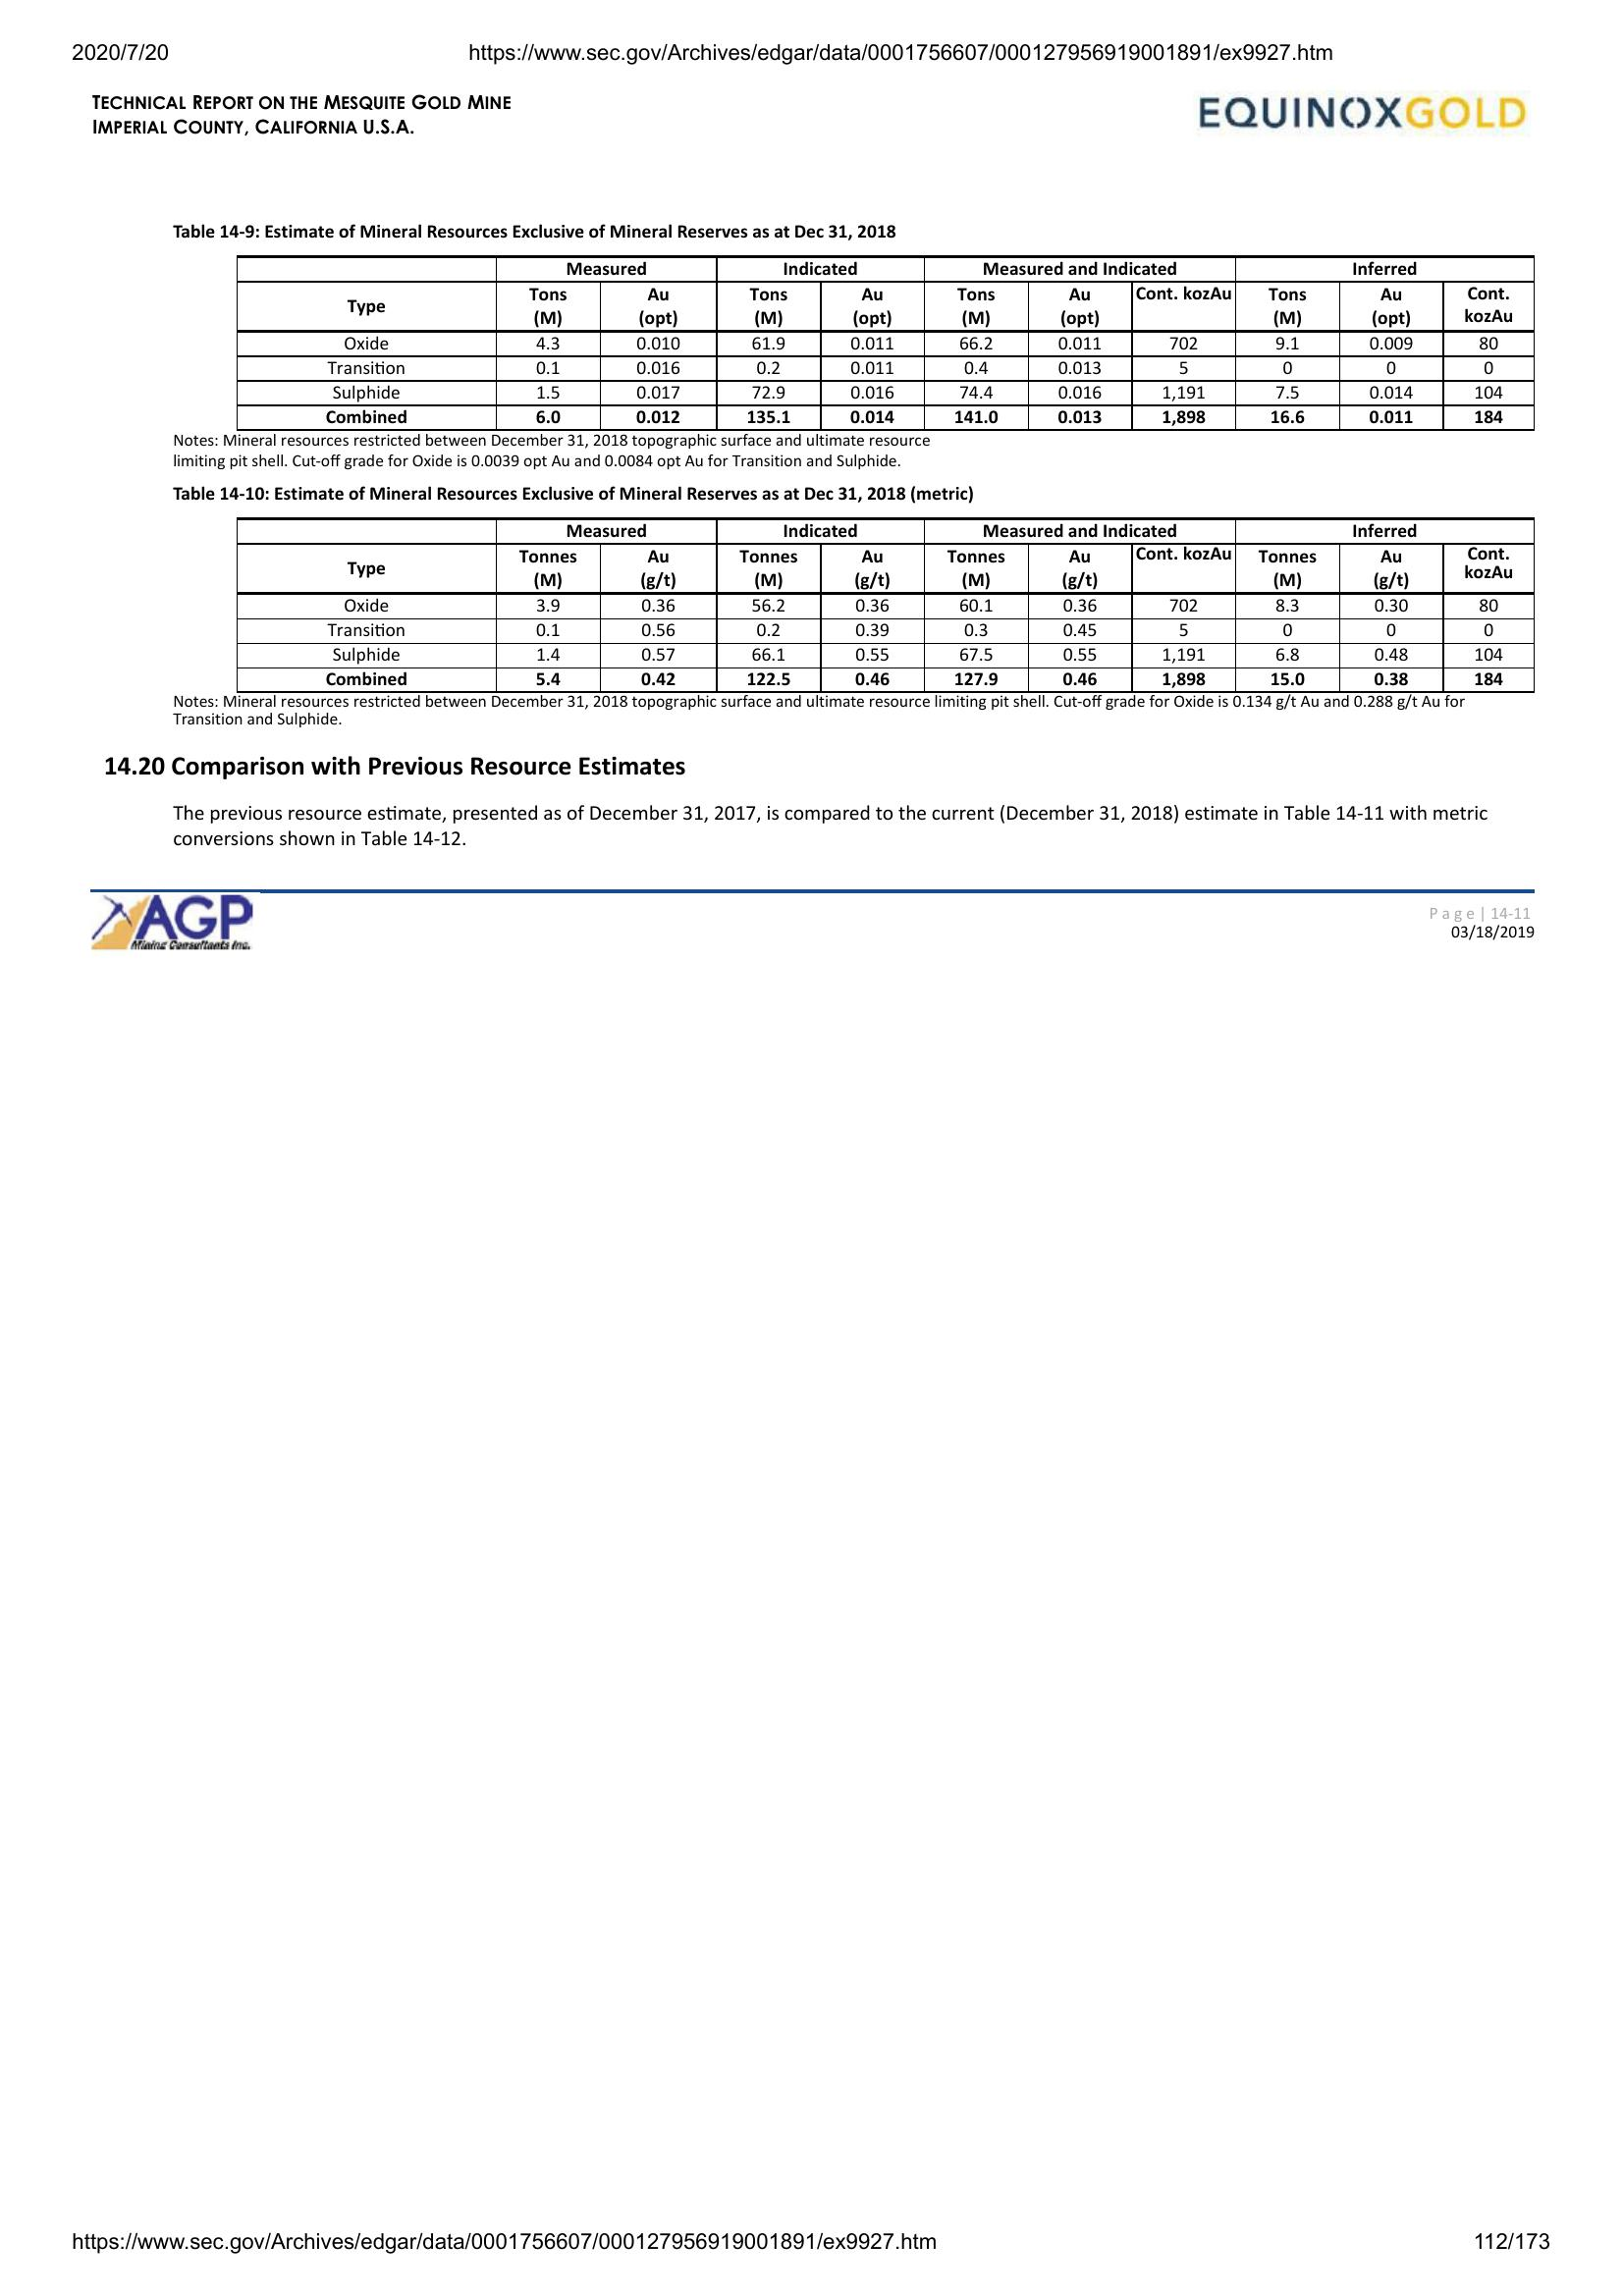table: (228, 509, 1544, 702), (228, 249, 1542, 435)
